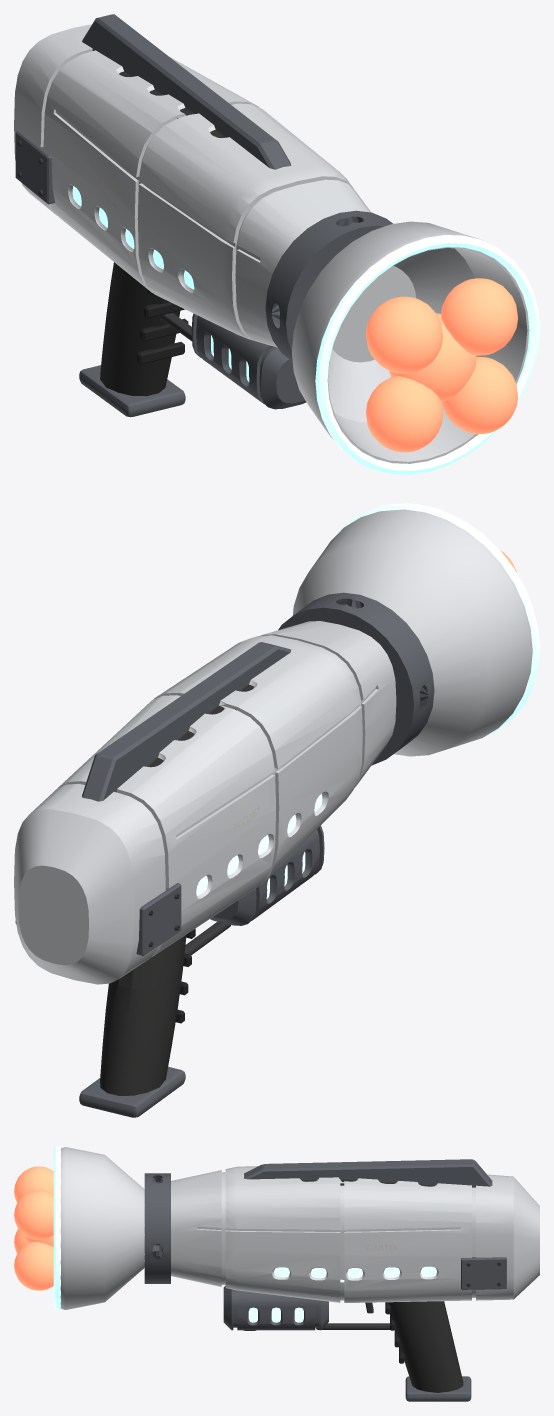
File: psicluster.glb
3 renders of one model, top to bottom at view 1: azimuth 30°, elevation 25°; view 2: azimuth 150°, elevation 25°; view 3: azimuth 270°, elevation 25°, orthographic. The views are drawn at different scales.
Visible parts, largest first — view 1: Body; view 2: Body; view 3: Body.
Boxes of the visible parts, x1,y1,x2,y2 form: Body: [14, 14, 539, 474]; Body: [14, 503, 539, 1117]; Body: [14, 1146, 539, 1401].
Size of the model in its own units: 0.1252 by 0.2008 by 0.399.
